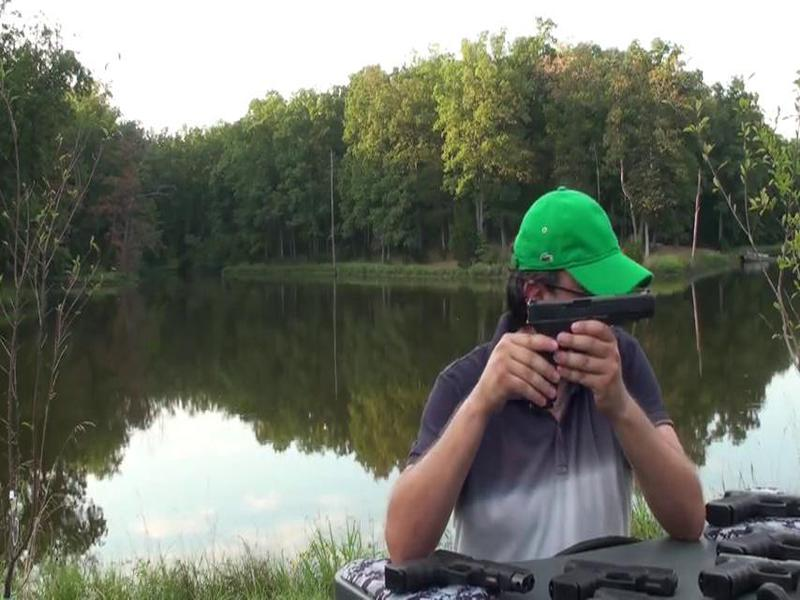Pistola: (515, 278, 661, 380), (379, 539, 538, 598), (547, 548, 674, 600)
